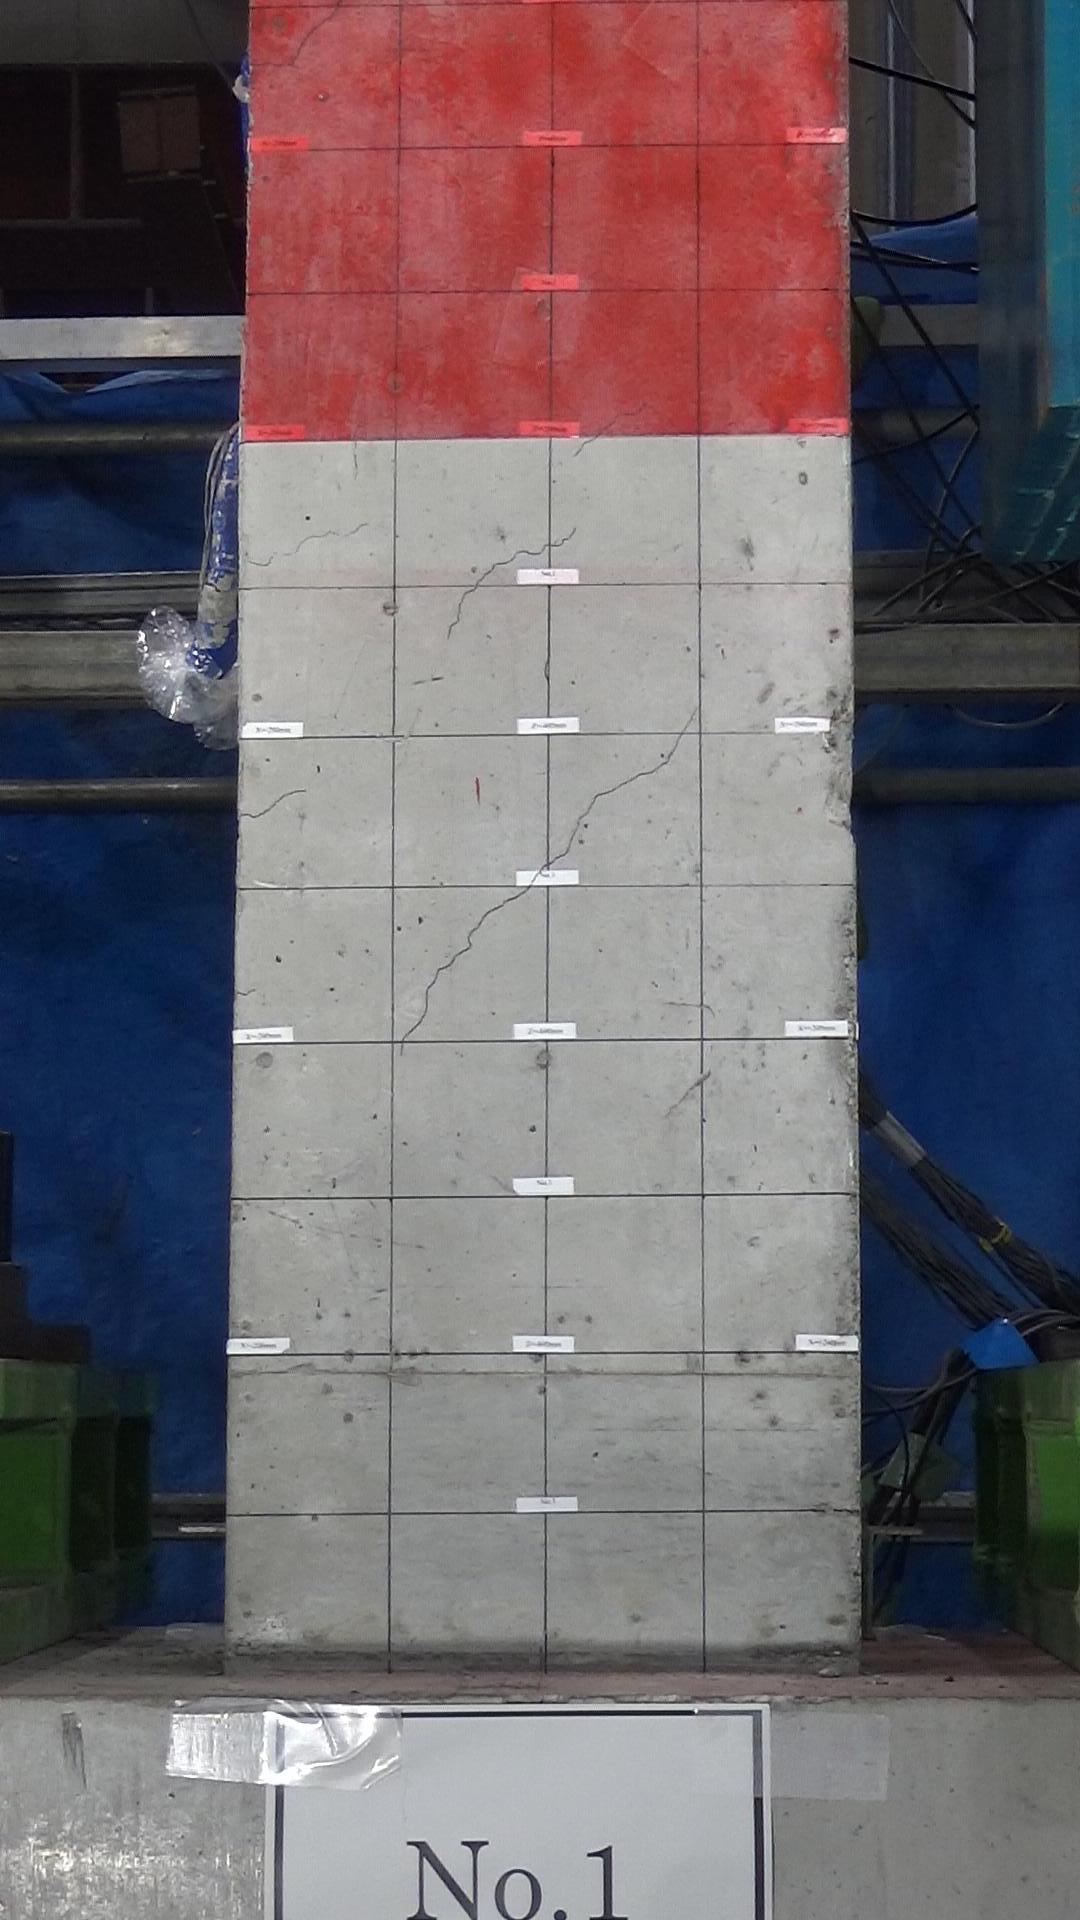Flexure Crack: (295, 520, 371, 543), (241, 549, 301, 568), (239, 803, 280, 824), (272, 786, 306, 806)
Shear Crack: (400, 942, 475, 1058), (526, 823, 589, 890), (556, 783, 634, 837), (632, 742, 702, 802), (462, 887, 537, 938), (440, 583, 479, 642), (468, 549, 529, 582), (526, 530, 578, 563)
